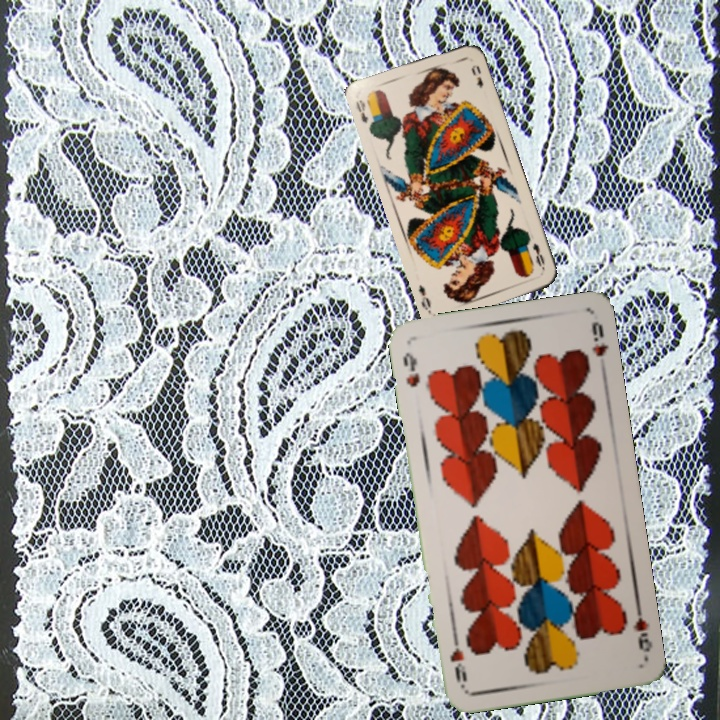EO: (529, 239, 547, 273), (352, 96, 371, 126)
H9: (628, 602, 655, 661), (399, 348, 423, 390)
